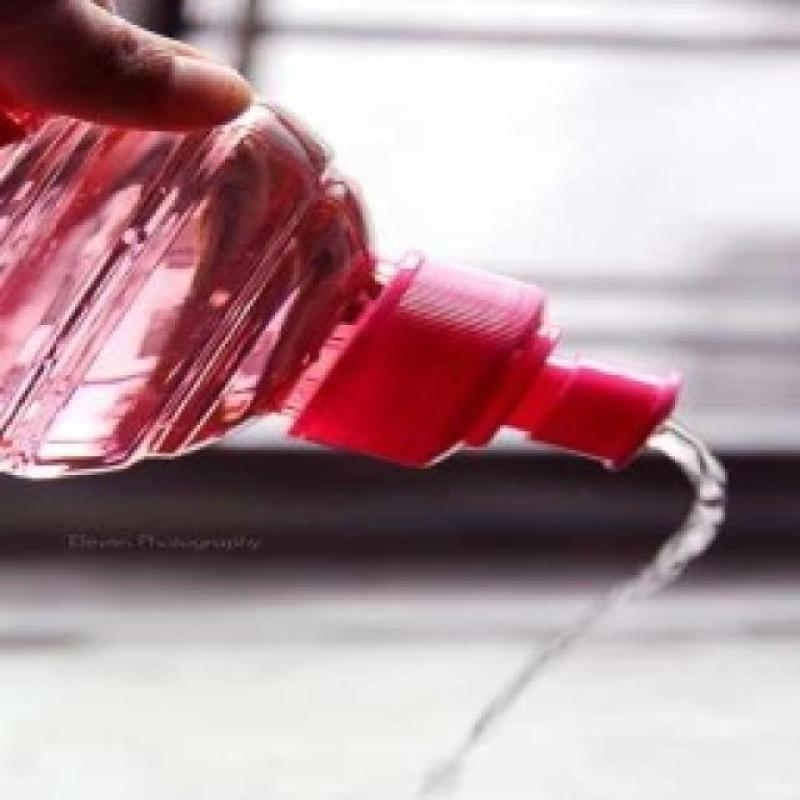botella: (0, 86, 685, 486)
